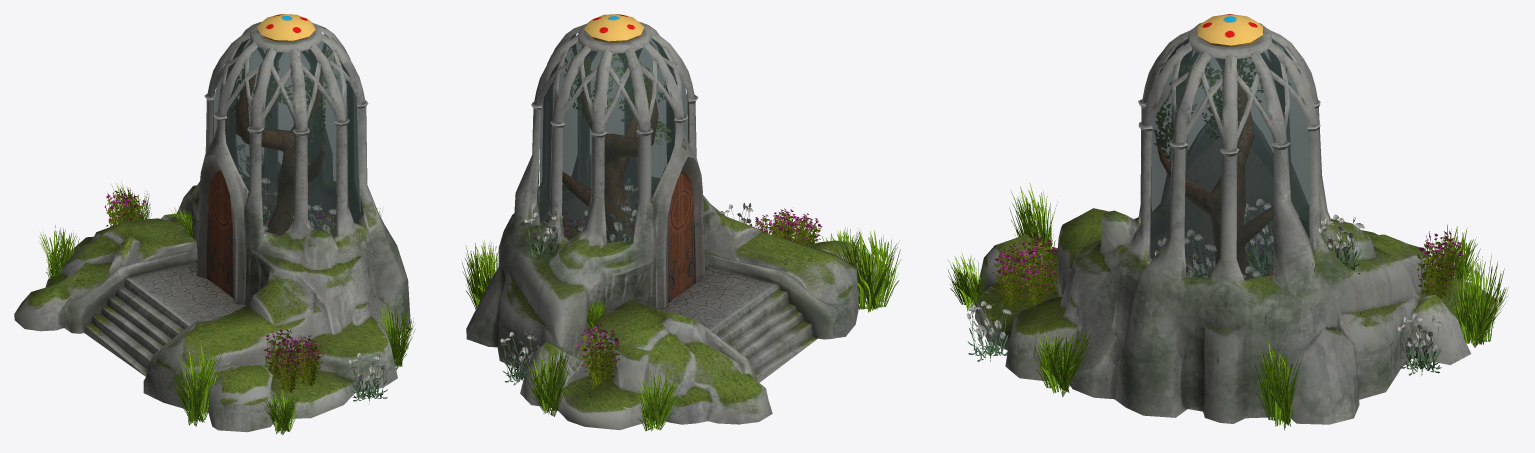
File: BLD_PeaGreenhouse.glb
3 renders of one model, left to right at view 1: azimuth 30°, elevation 25°; view 2: azimuth 150°, elevation 25°; view 3: azimuth 270°, elevation 25°, orthographic. The views are drawn at different scales.
Parts seen in each view (by area): view 1: 0_Orange_0, RetopoGroup1_Glass_0; view 2: 0_Orange_0, RetopoGroup1_Glass_0; view 3: 0_Orange_0, RetopoGroup1_Glass_0.
Part boxes in pixels (left/top/right/bottom): 0_Orange_0: left=14, top=14, right=415, bottom=434; RetopoGroup1_Glass_0: left=213, top=38, right=359, bottom=236; 0_Orange_0: left=462, top=14, right=901, bottom=431; RetopoGroup1_Glass_0: left=539, top=38, right=688, bottom=242; 0_Orange_0: left=948, top=14, right=1508, bottom=430; RetopoGroup1_Glass_0: left=1150, top=39, right=1309, bottom=279.
Size of the model in its own units: 525 by 460 by 673.
Materials: 2 (1 with a texture image).
